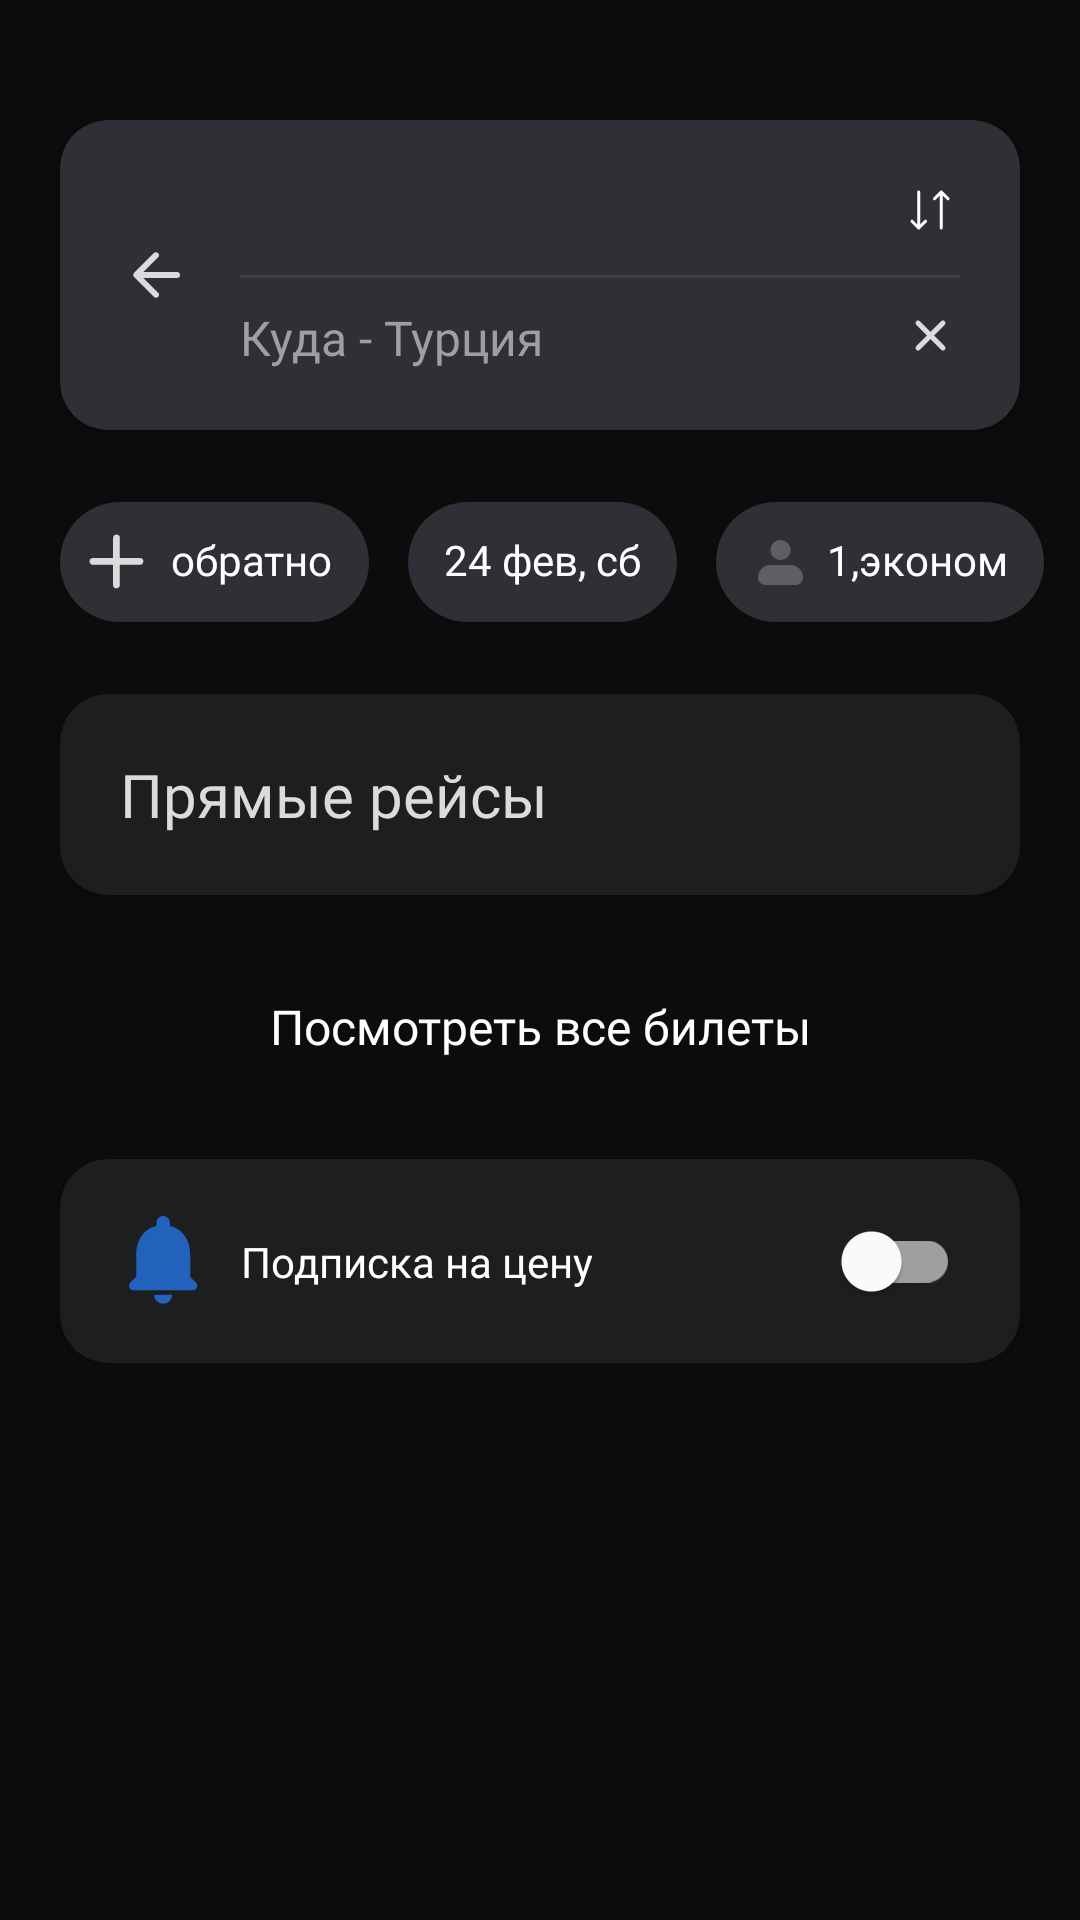

Screen size 1080x1920. Icon name, then its box in pixels as region(x1, y1, x2, y2):
arrow back: region(133, 252, 180, 298)
close: region(915, 320, 946, 351)
reminder: region(129, 1216, 198, 1304)
reverse: region(910, 190, 950, 230)
